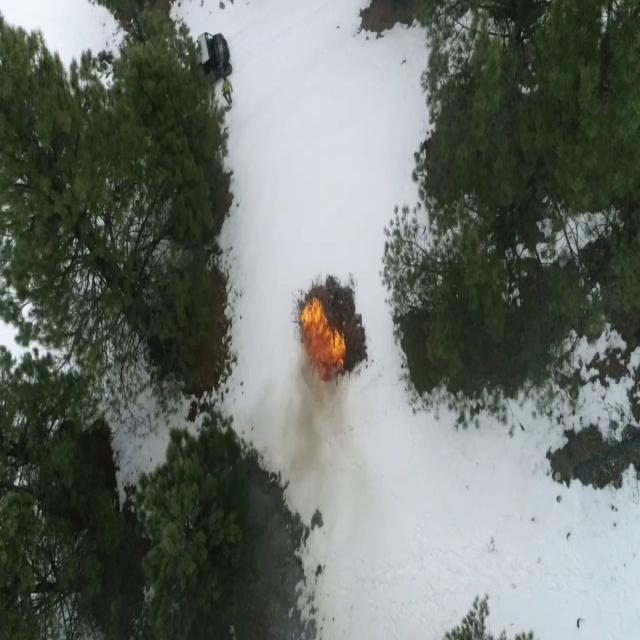fire: (298, 297, 344, 375)
